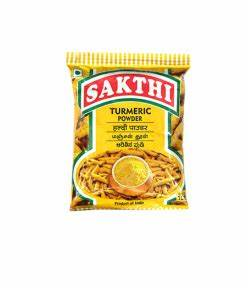VEG: (73, 69, 82, 77)
